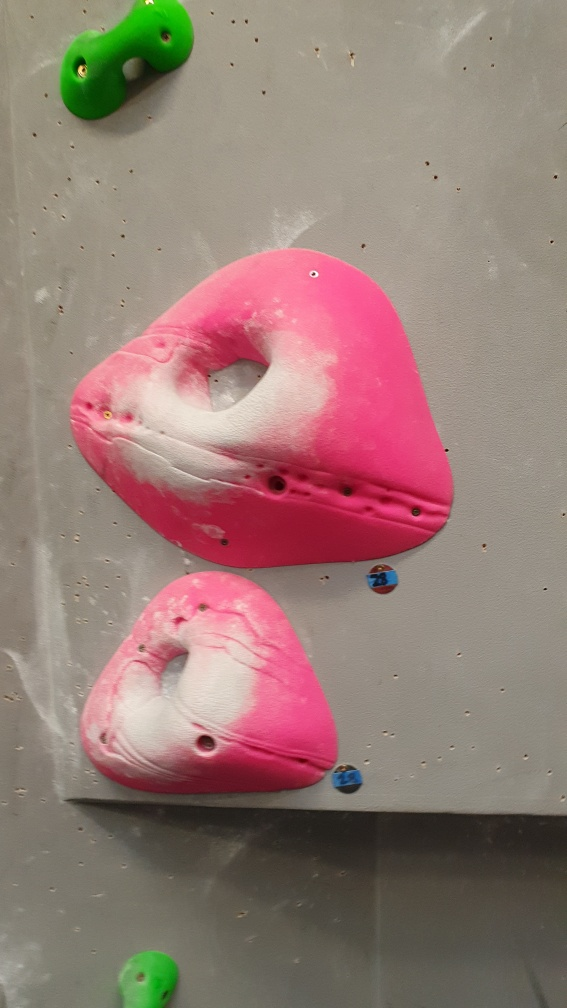Hand Start: (361, 563, 400, 600), (331, 757, 364, 797)
Pocket: (68, 239, 456, 574), (74, 571, 341, 799)
